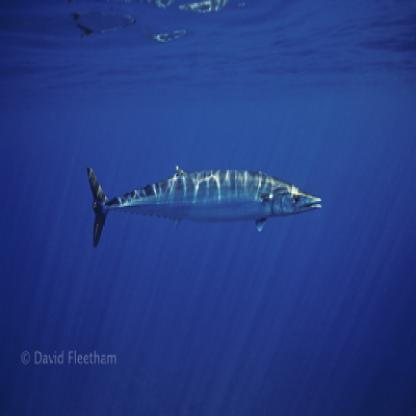tuna: (85, 162, 328, 251)
